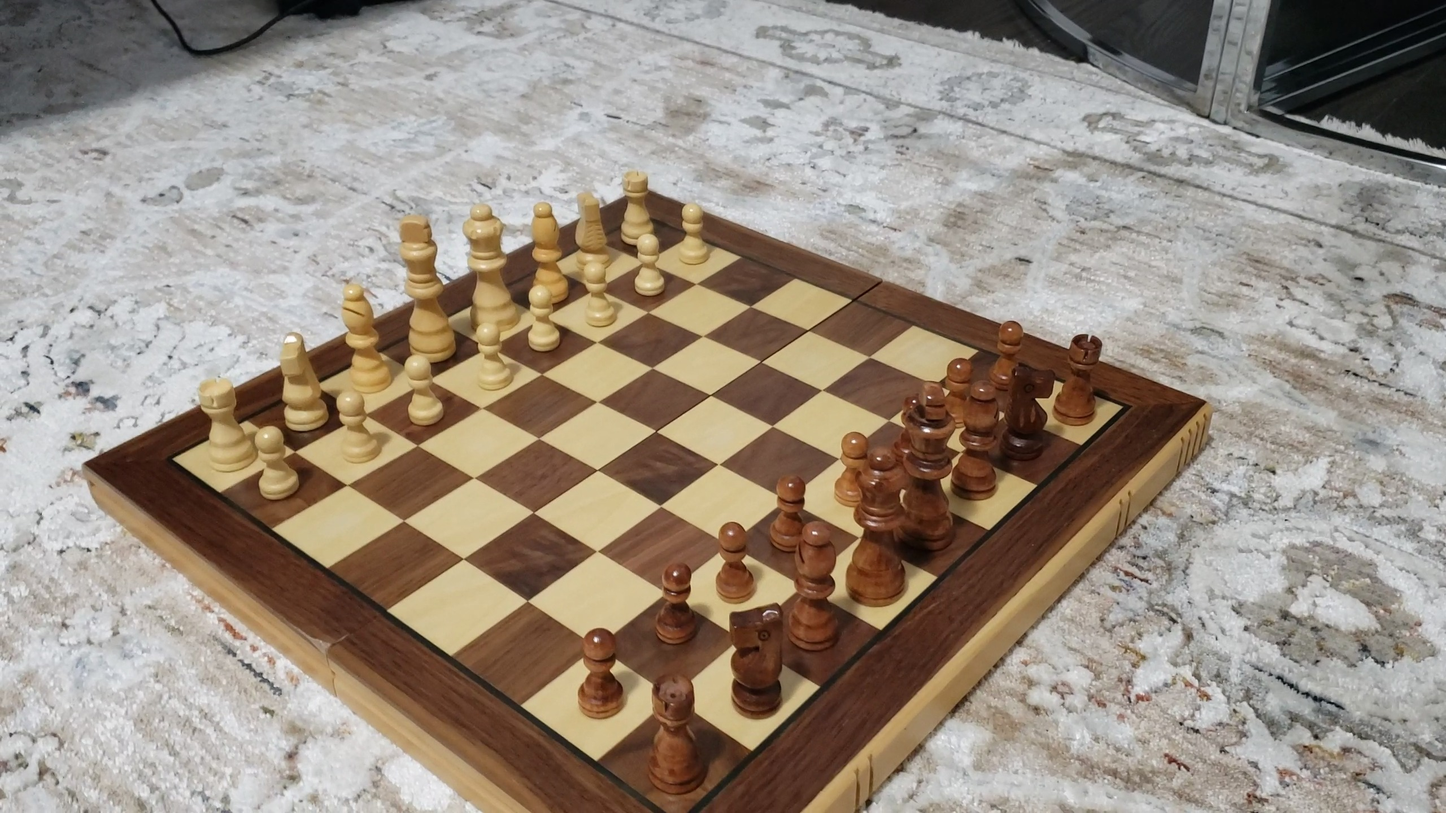black-bishop: (952, 370, 1004, 499), (789, 521, 840, 651)
black-king: (886, 378, 964, 553)
black-knight: (726, 601, 787, 719), (995, 362, 1049, 461)
black-pawn: (575, 626, 626, 721), (652, 558, 699, 648), (714, 518, 756, 606), (768, 471, 811, 555), (986, 316, 1029, 395), (832, 429, 873, 509), (935, 353, 977, 431)
black-queen: (842, 443, 917, 607)
black-rook: (647, 674, 705, 795), (1053, 331, 1105, 425)
white-bishop: (337, 277, 390, 395), (528, 199, 570, 309)
white-king: (395, 209, 455, 364)
white-knight: (276, 331, 329, 432), (571, 183, 612, 281)
white-pawn: (247, 423, 306, 506), (572, 248, 623, 333), (329, 390, 385, 467), (398, 351, 449, 430), (466, 320, 517, 396), (626, 225, 672, 302), (670, 195, 717, 270), (520, 283, 565, 356)
white-queen: (460, 200, 515, 340)
white-rook: (192, 376, 257, 474), (616, 167, 657, 250)
